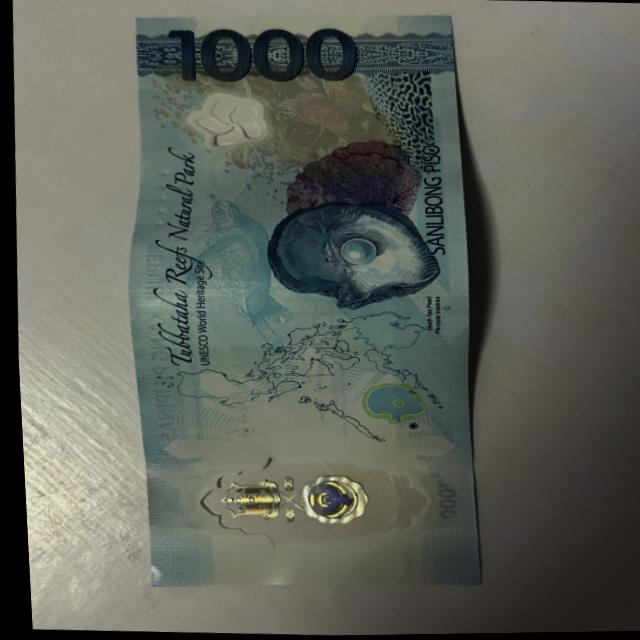clear_window: (166, 459, 455, 558)
sampaguita: (180, 88, 281, 157)
value: (155, 16, 374, 94)
